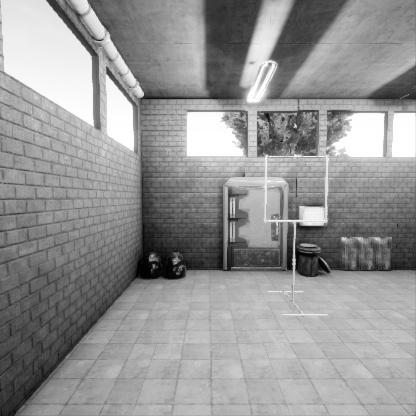gate: (264, 196, 333, 263)
